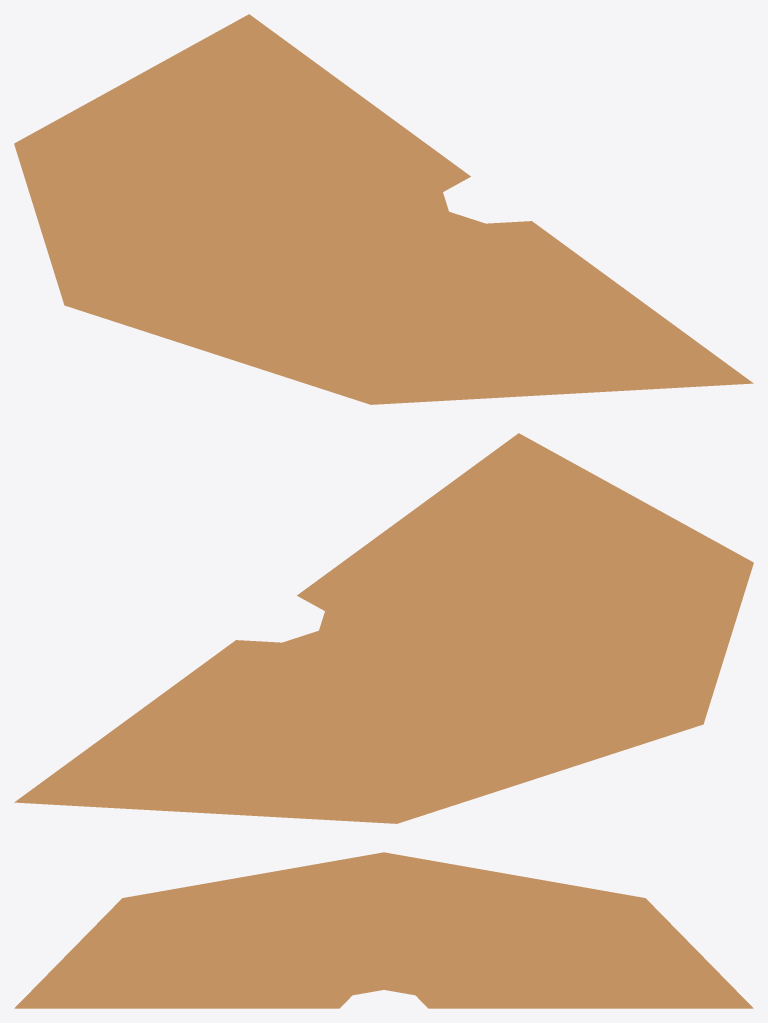
Rendered from Raod 10.fbx.
The picture shows the model from 3 angles, top to bottom: view 1: azimuth 30°, elevation 25°; view 2: azimuth 150°, elevation 25°; view 3: azimuth 270°, elevation 25°; orthographic projection. The views are drawn at different scales.
Parts seen in each view (by area): view 1: Road_10; view 2: Road_10; view 3: Road_10.
Boxes of the visible parts, x1=… form: Road_10: x1=14, y1=14, x2=753, y2=404; Road_10: x1=14, y1=433, x2=753, y2=823; Road_10: x1=14, y1=852, x2=753, y2=1008.
Size of the model in its own units: 1.14 by 8.88e-16 by 2.27.
